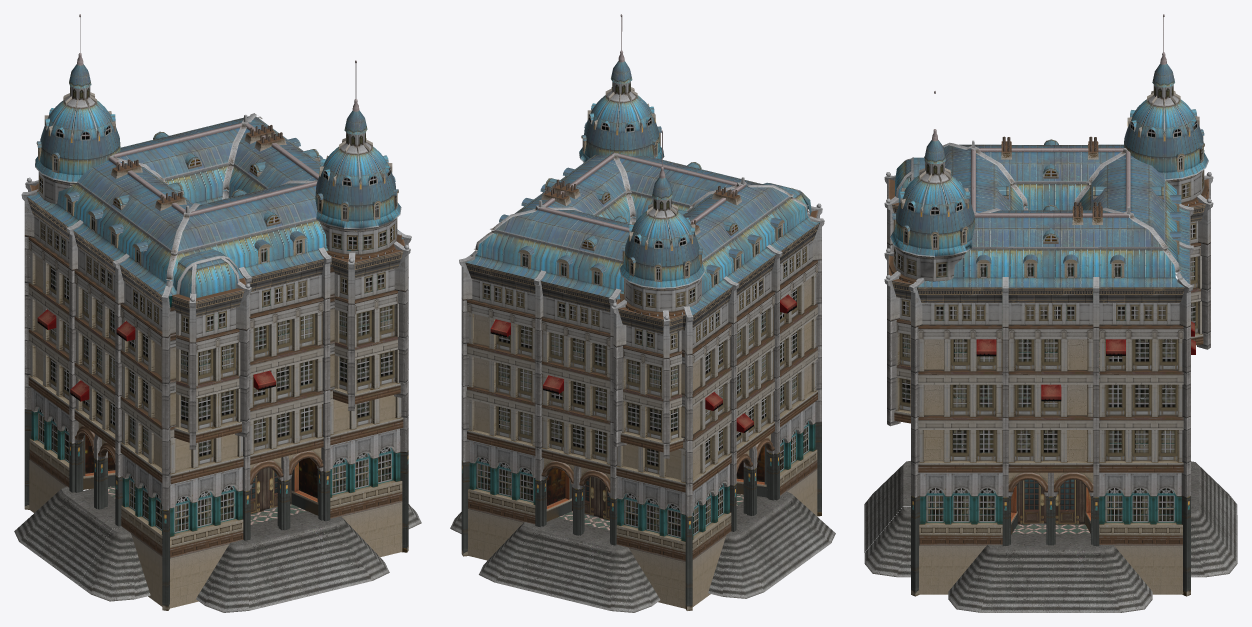
Rendered from townhall.gltf.
3 renders of one model, left to right at view 1: azimuth 30°, elevation 25°; view 2: azimuth 150°, elevation 25°; view 3: azimuth 270°, elevation 25°, orthographic. The views are drawn at different scales.
Visible parts, largest first — view 1: _base_lod0, _0_lod0; view 2: _base_lod0, _0_lod0; view 3: _base_lod0, _0_lod0.
Part boxes in pixels (x1,y1,x2,y2): _base_lod0: (14, 249, 421, 612); _0_lod0: (21, 14, 411, 355); _base_lod0: (450, 271, 835, 612); _0_lod0: (459, 14, 824, 370); _base_lod0: (864, 255, 1237, 612); _0_lod0: (884, 14, 1213, 381).
Size of what is drawn, in the model's own units: 3.29 by 4.72 by 3.29.
